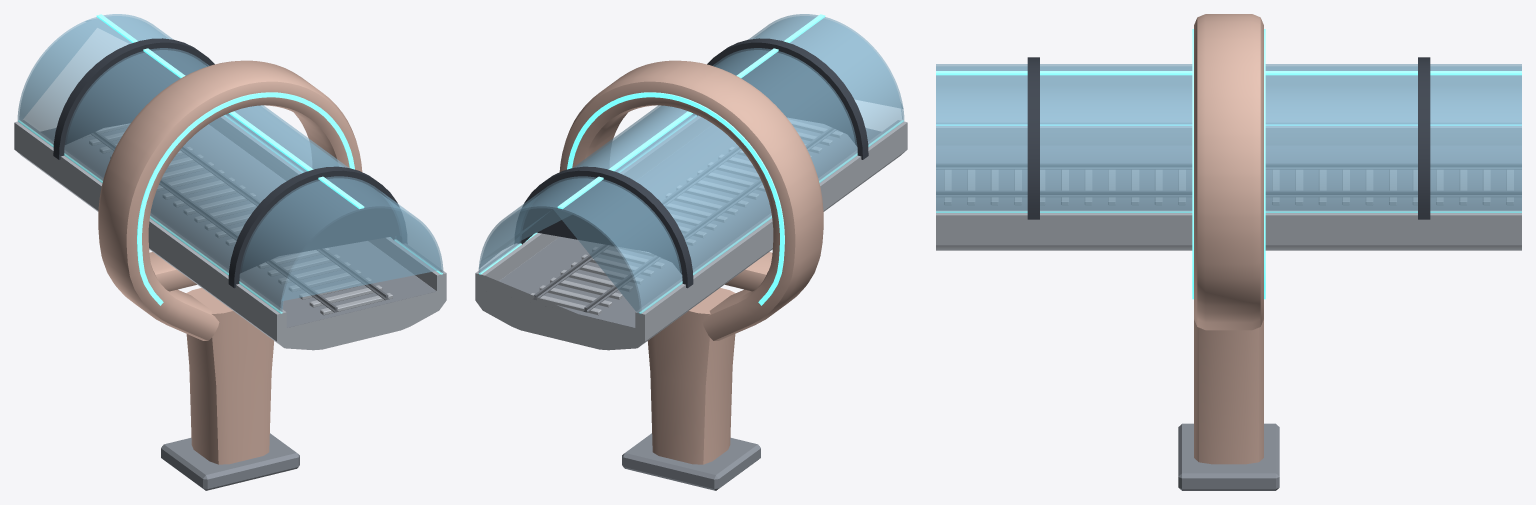
The model's file is trem_tubo_reto.glb.
3 renders of one model, left to right at view 1: azimuth 30°, elevation 25°; view 2: azimuth 150°, elevation 25°; view 3: azimuth 270°, elevation 25°, orthographic. The views are drawn at different scales.
Visible parts, largest first — view 1: trem_tubo_reto; view 2: trem_tubo_reto; view 3: trem_tubo_reto.
Part boxes in pixels (left/top/right/bottom): trem_tubo_reto: left=14, top=14, right=446, bottom=490; trem_tubo_reto: left=475, top=14, right=907, bottom=490; trem_tubo_reto: left=936, top=14, right=1521, bottom=490.
Size of the model in its own units: 7.96 by 12.37 by 15.
Materials: 3 (1 with a texture image).
